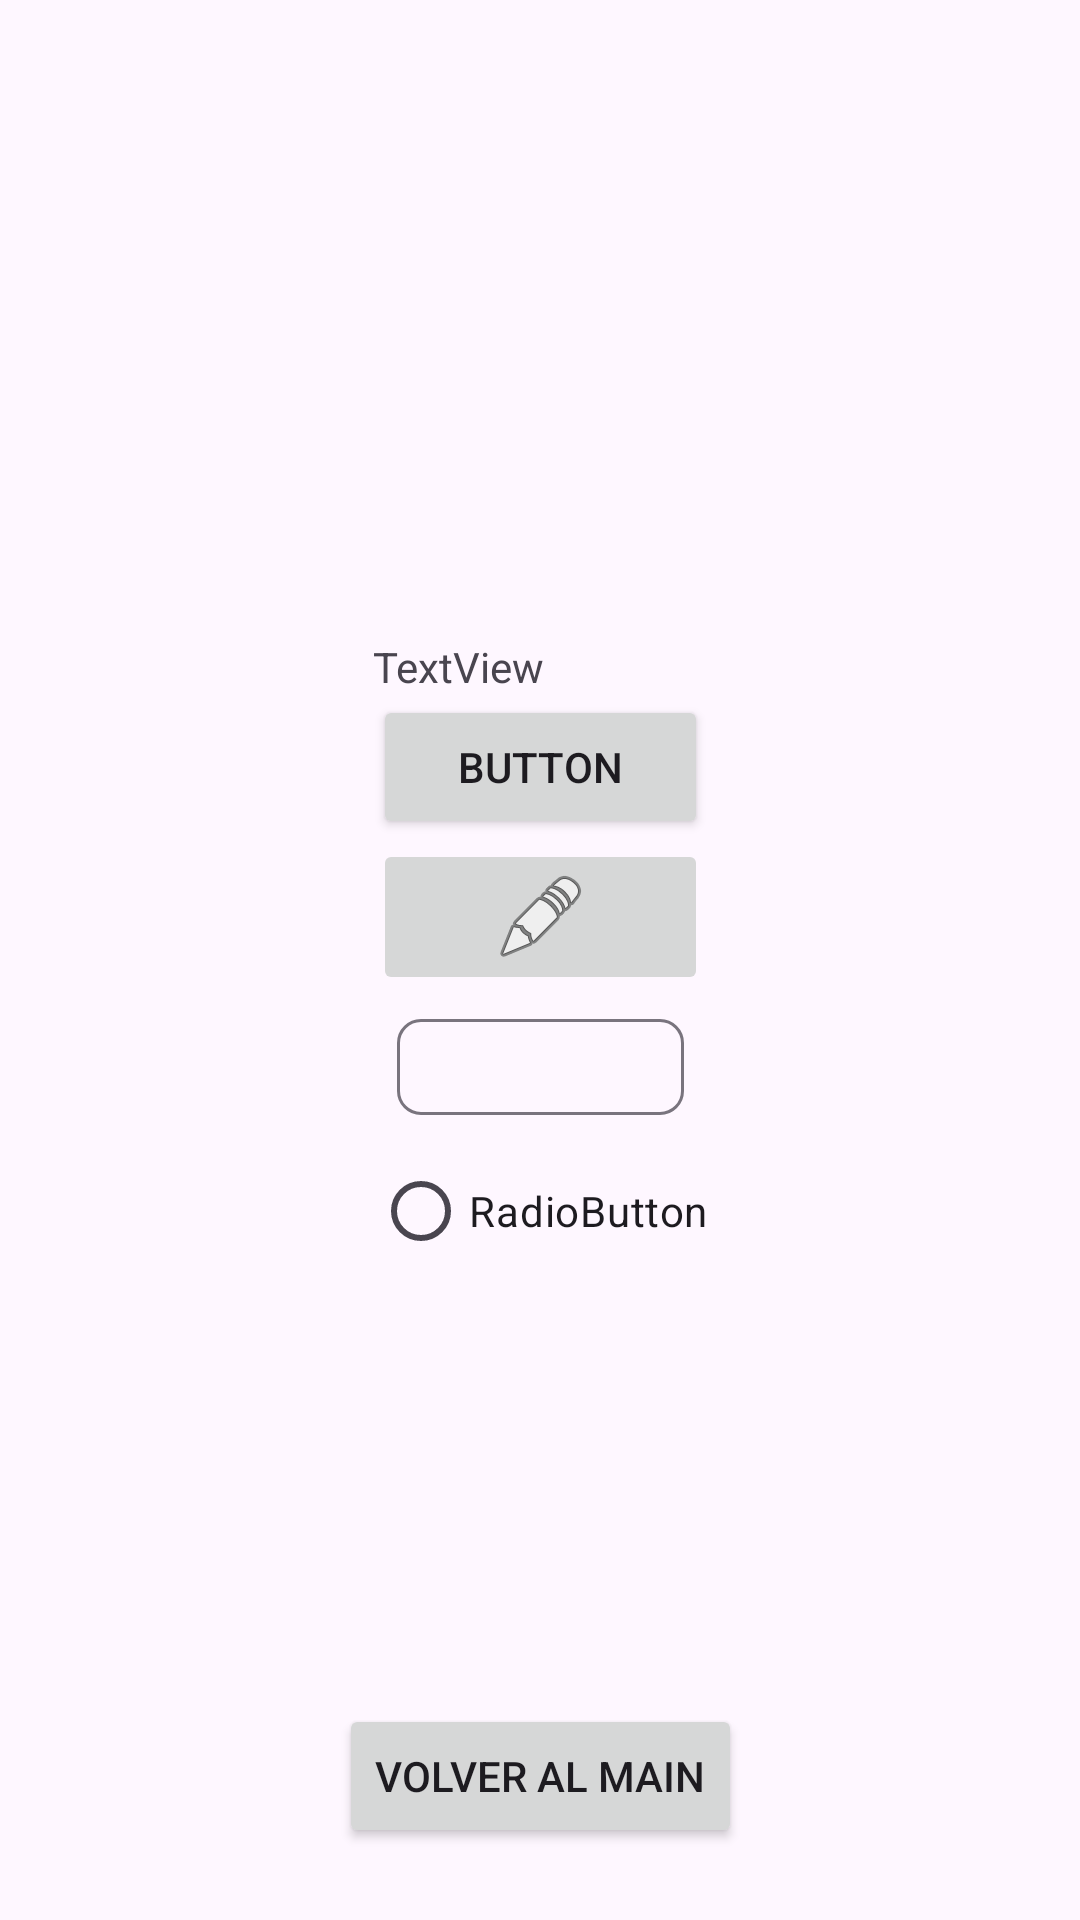

Locate icon controls on the screen. Image size 1080x1920, boxes as (x1, y1, x2, y2).
edit: (385, 857, 696, 977)
